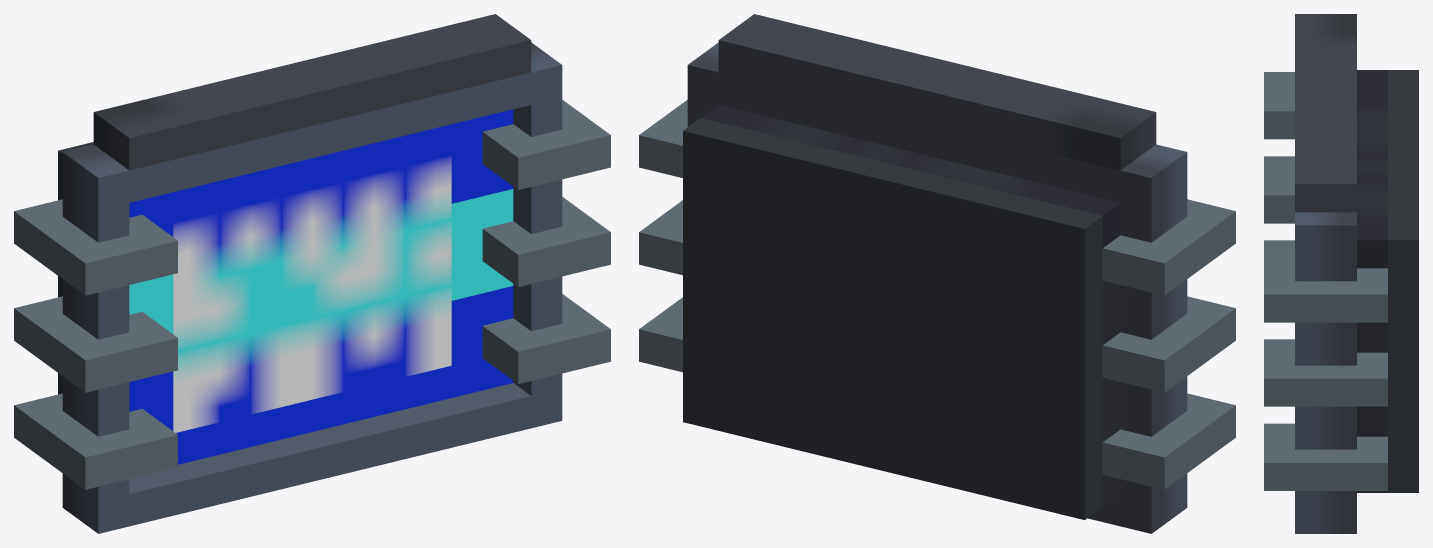
File: Advertising-10.fbx
The picture shows the model from 3 angles, left to right: view 1: azimuth 30°, elevation 25°; view 2: azimuth 150°, elevation 25°; view 3: azimuth 270°, elevation 25°; orthographic projection. The views are drawn at different scales.
Visible parts, largest first — view 1: Advertising_10; view 2: Advertising_10; view 3: Advertising_10.
Boxes of the visible parts, x1,y1,x2,y2 form: Advertising_10: (14, 14, 610, 533); Advertising_10: (639, 14, 1235, 533); Advertising_10: (1264, 14, 1418, 533).
Bounding box in the file's own units: 170 × 120 × 50.
2 materials, 2 textured.
